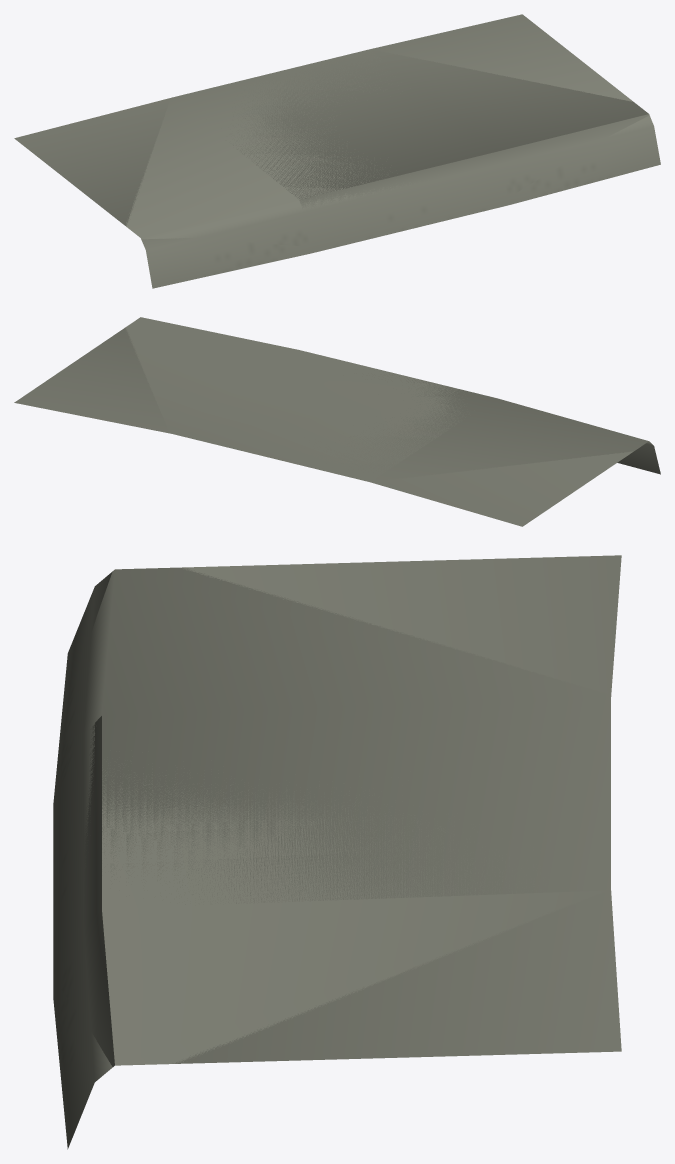
File: trunk.fbx
3 views of the same model, one above another, from view 1: azimuth 30°, elevation 25°; view 2: azimuth 150°, elevation 25°; view 3: azimuth 270°, elevation 25° (orthographic). The views are drawn at different scales.
Parts seen in each view (by area): view 1: node_e5b35243_e956_4245_bdb6_b5a5611bb2da_mesh0.001, node_e5b35243_e956_4245_bdb6_b5a5611bb2da_mesh0; view 2: node_e5b35243_e956_4245_bdb6_b5a5611bb2da_mesh0.001, node_e5b35243_e956_4245_bdb6_b5a5611bb2da_mesh0; view 3: node_e5b35243_e956_4245_bdb6_b5a5611bb2da_mesh0, node_e5b35243_e956_4245_bdb6_b5a5611bb2da_mesh0.001.
Boxes of the visible parts, <box> form: node_e5b35243_e956_4245_bdb6_b5a5611bb2da_mesh0.001: <box>14,49,649,288</box>; node_e5b35243_e956_4245_bdb6_b5a5611bb2da_mesh0: <box>125,14,660,255</box>; node_e5b35243_e956_4245_bdb6_b5a5611bb2da_mesh0.001: <box>125,317,633,526</box>; node_e5b35243_e956_4245_bdb6_b5a5611bb2da_mesh0: <box>14,327,660,482</box>; node_e5b35243_e956_4245_bdb6_b5a5611bb2da_mesh0: <box>53,567,621,1149</box>; node_e5b35243_e956_4245_bdb6_b5a5611bb2da_mesh0.001: <box>53,555,621,1066</box>.
Size of the model in its own units: 162 by 16.35 by 78.21.
